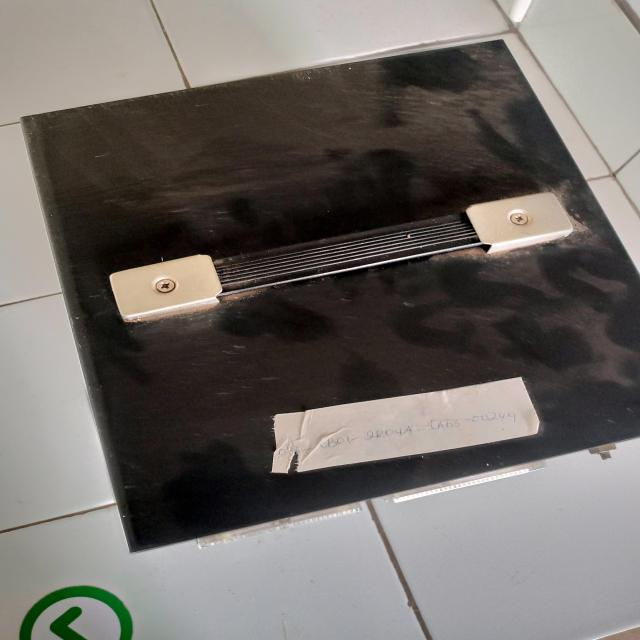AC POWER Stabilizer: (14, 40, 640, 548)
